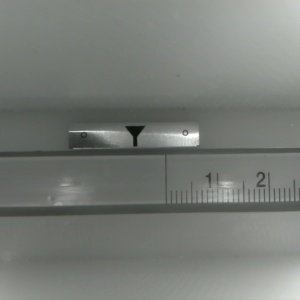1: (204, 171, 211, 187)
2: (255, 171, 266, 187)
finger: (124, 126, 144, 145)
